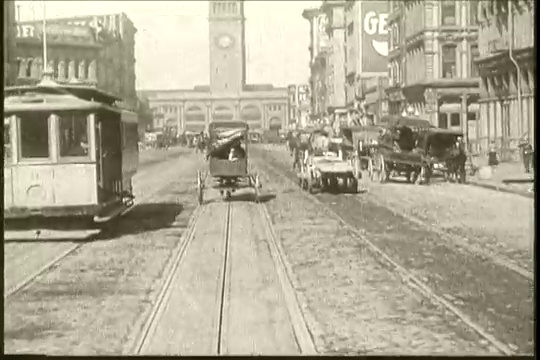carriage: (193, 120, 265, 207), (279, 129, 359, 194), (361, 123, 434, 189)
